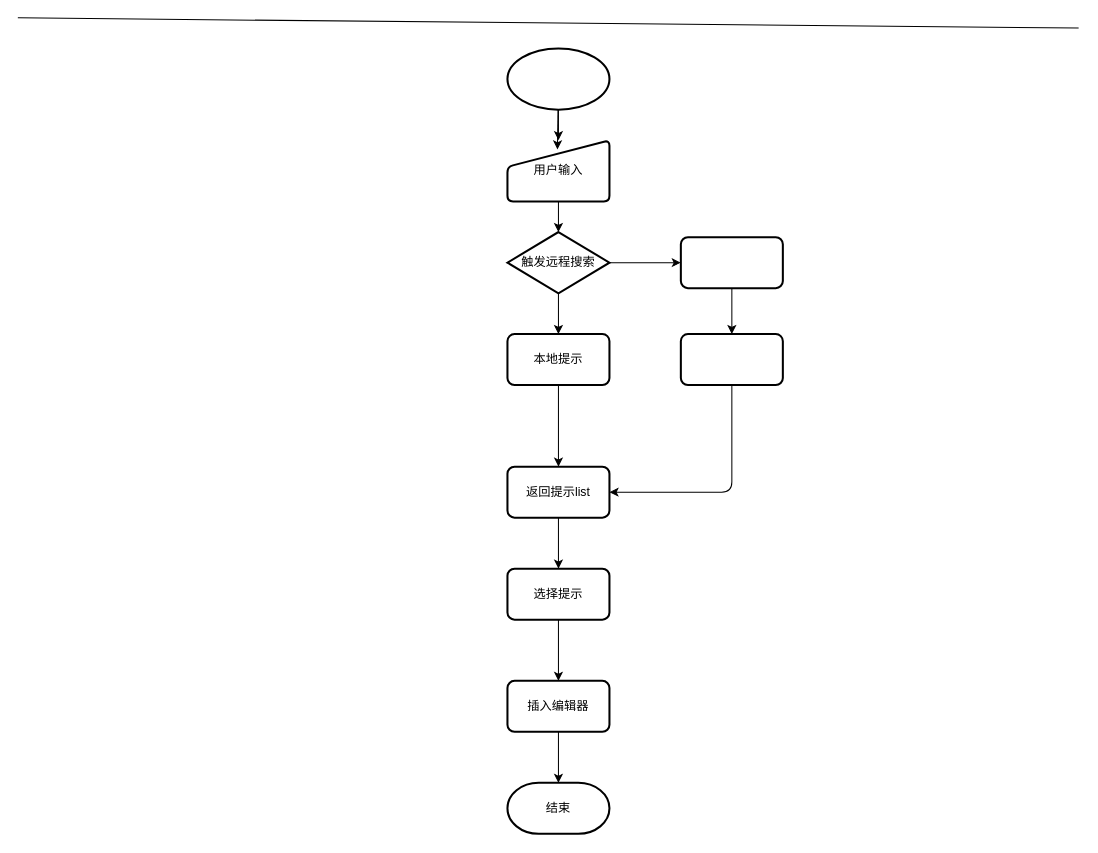
Some shapes in this 1098 by 853 pixel diagram are drawn without their labels. Here are the shapes that lost their labels. From the top down, the centre of each, then its label:
At point 558,78: "开始".
At point 731,262: "远程提示".
At point 731,359: "调用接口".
